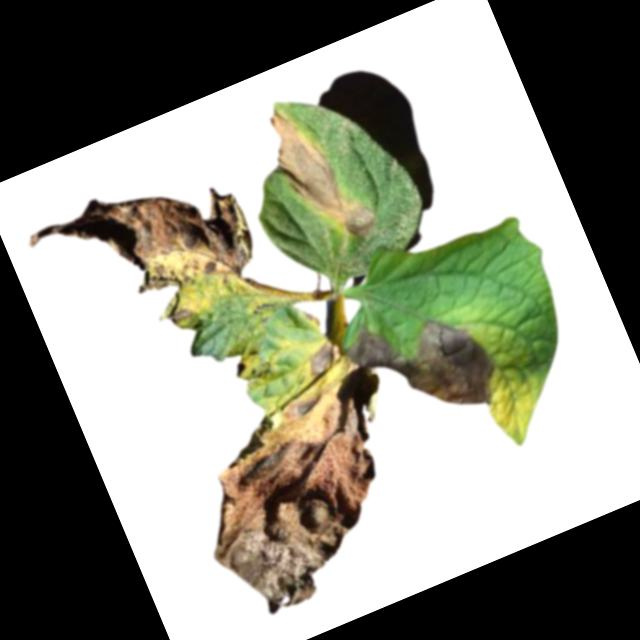Early_blight: (170, 381, 416, 627), (21, 145, 278, 369), (342, 288, 511, 445), (256, 86, 386, 258), (303, 337, 344, 376)
